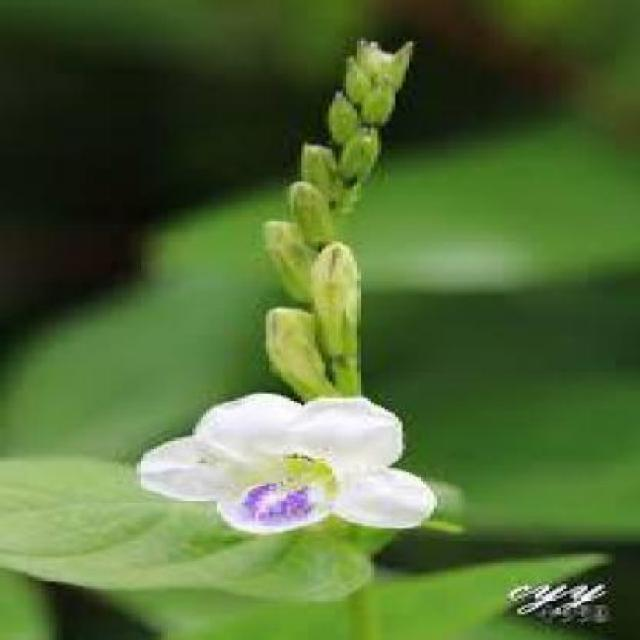flower: (131, 382, 446, 536)
